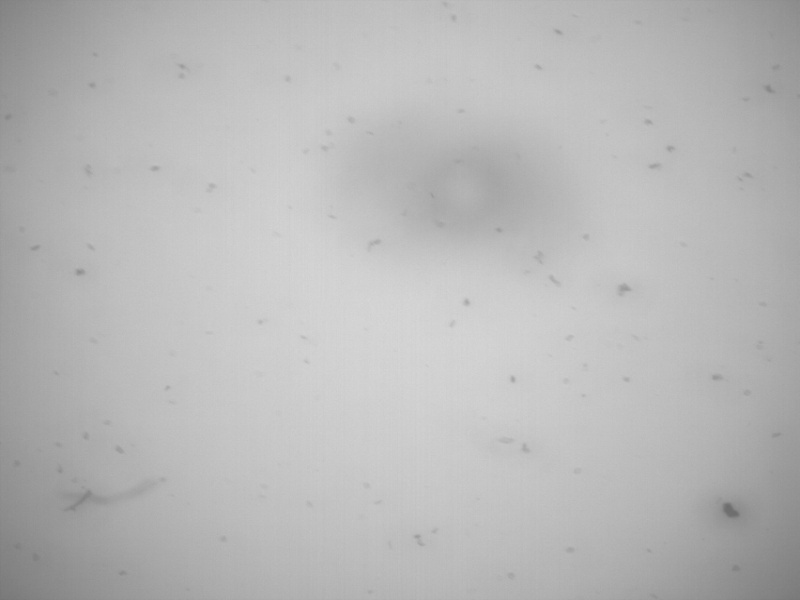fiber: (59, 475, 164, 515)
